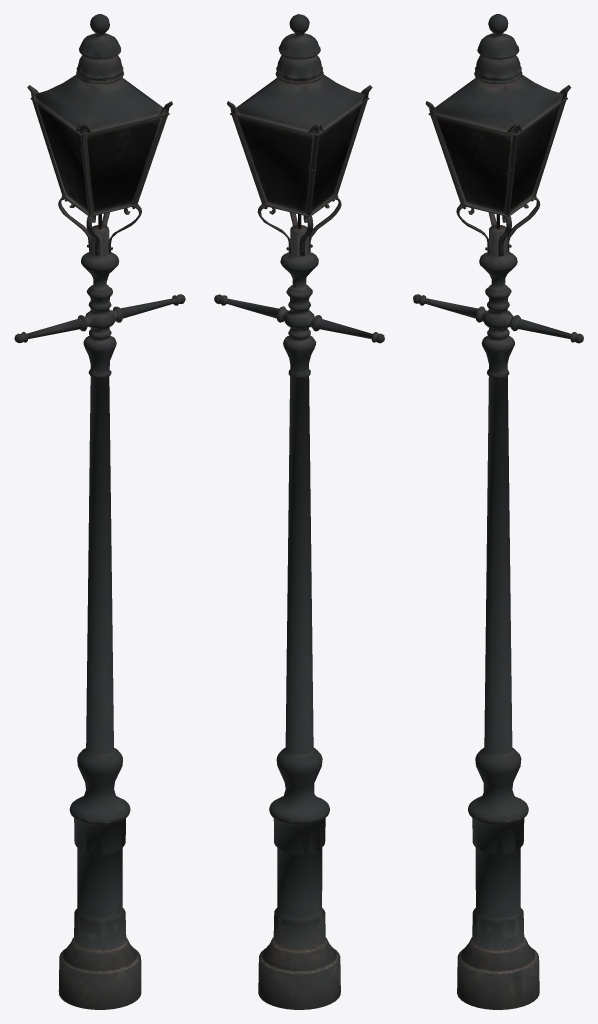
File: street_lamp_01.glb
3 views of the same model, side by side, from view 1: azimuth 30°, elevation 25°; view 2: azimuth 150°, elevation 25°; view 3: azimuth 330°, elevation 25° (orthographic).
Visible parts, largest first — view 1: street_lamp_01; view 2: street_lamp_01; view 3: street_lamp_01.
Part boxes in pixels (x1,y1,x2,y2): street_lamp_01: [14, 14, 185, 1009]; street_lamp_01: [214, 14, 384, 1009]; street_lamp_01: [413, 14, 583, 1009].
Size of the model in its own units: 0.7035 by 3.87 by 0.3841.
Materials: 2 (2 with a texture image).
